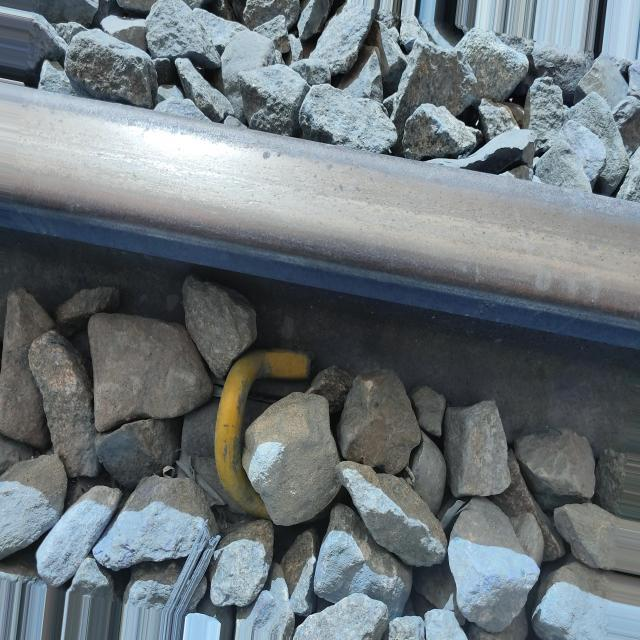Good Fasteners: (163, 361, 330, 537)
